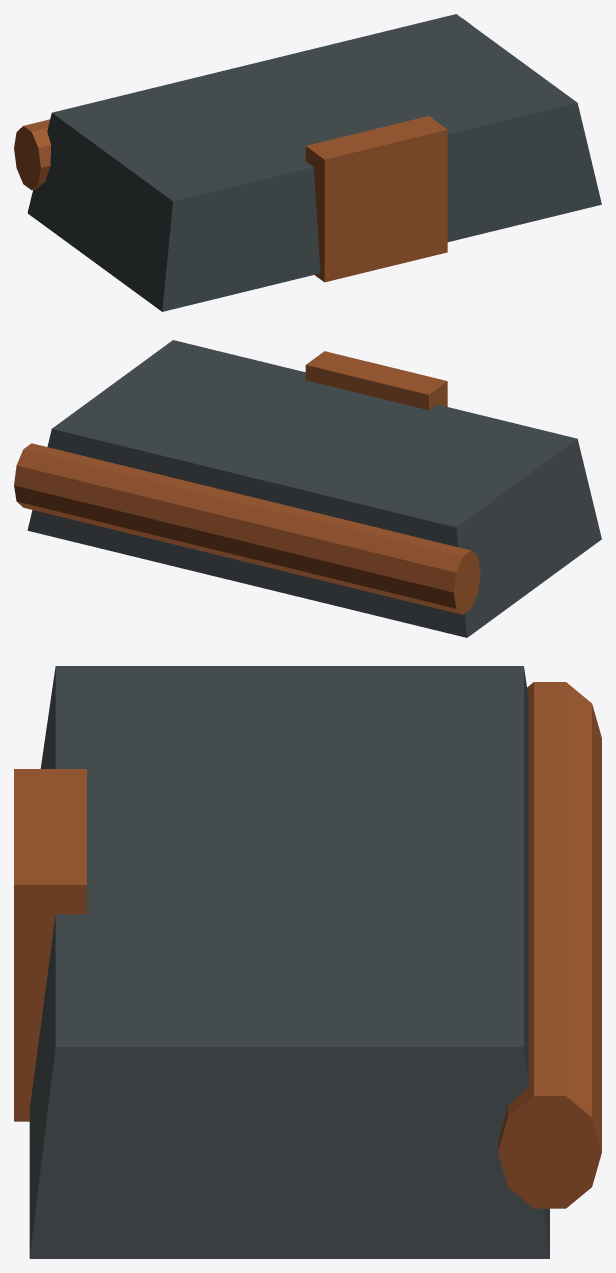
Rendered from GEAR_EVIDENCE_LID_LODs.fbx.
3 views of the same model, one above another, from view 1: azimuth 30°, elevation 25°; view 2: azimuth 150°, elevation 25°; view 3: azimuth 270°, elevation 25° (orthographic). The views are drawn at different scales.
Parts seen in each view (by area): view 1: GEAR_EVIDENCE_LID_LOD0; view 2: GEAR_EVIDENCE_LID_LOD0; view 3: GEAR_EVIDENCE_LID_LOD0.
Part boxes in pixels (x1,y1,x2,y2): GEAR_EVIDENCE_LID_LOD0: (14,14,601,311); GEAR_EVIDENCE_LID_LOD0: (14,340,601,637); GEAR_EVIDENCE_LID_LOD0: (14,666,601,1258).
Size of what is drawn, in the model's own units: 0.15 by 0.04 by 0.09.
